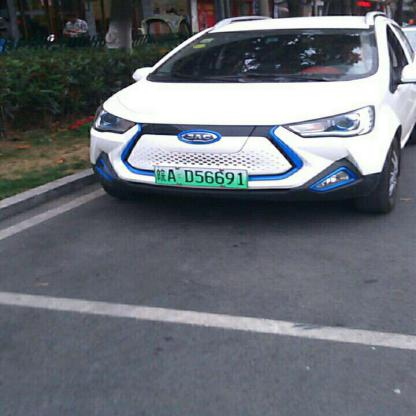lp: (155, 165, 247, 187)
